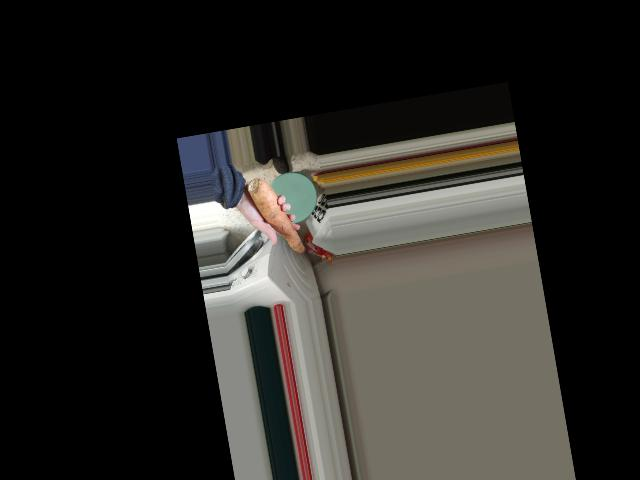sweet_potato: (243, 170, 310, 266)
